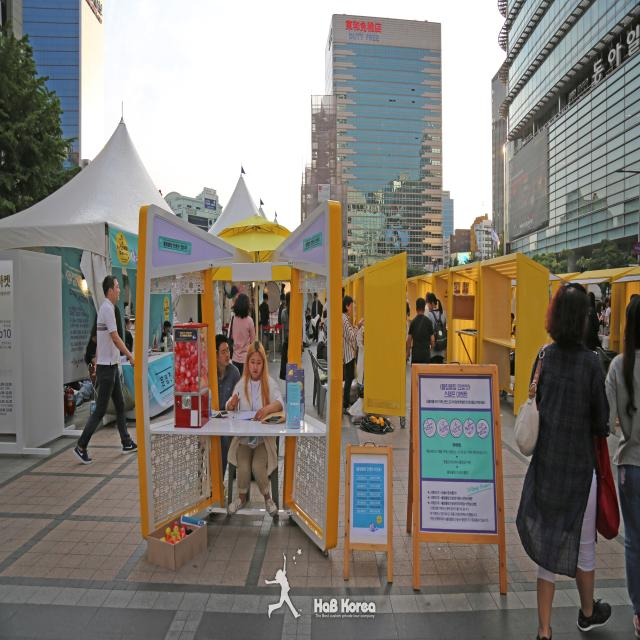body: (511, 280, 622, 640), (72, 273, 140, 466), (604, 294, 640, 639), (224, 339, 285, 519), (216, 333, 242, 503), (83, 298, 126, 388), (260, 554, 306, 626), (342, 294, 364, 417), (226, 292, 256, 378), (406, 297, 435, 364), (426, 292, 448, 364), (585, 291, 604, 351), (279, 289, 291, 382), (310, 290, 324, 343), (259, 293, 271, 352), (278, 293, 286, 357), (160, 320, 172, 352), (405, 291, 410, 364), (595, 301, 605, 335), (625, 292, 636, 322), (125, 317, 134, 353), (510, 324, 516, 376), (604, 296, 611, 336), (389, 228, 402, 248), (64, 381, 82, 394), (305, 308, 311, 342), (322, 294, 328, 327), (424, 291, 431, 317), (123, 272, 129, 297), (601, 302, 607, 323), (340, 283, 346, 302), (511, 313, 515, 335), (603, 297, 609, 310), (124, 302, 129, 316), (609, 311, 612, 328), (130, 303, 134, 315)
